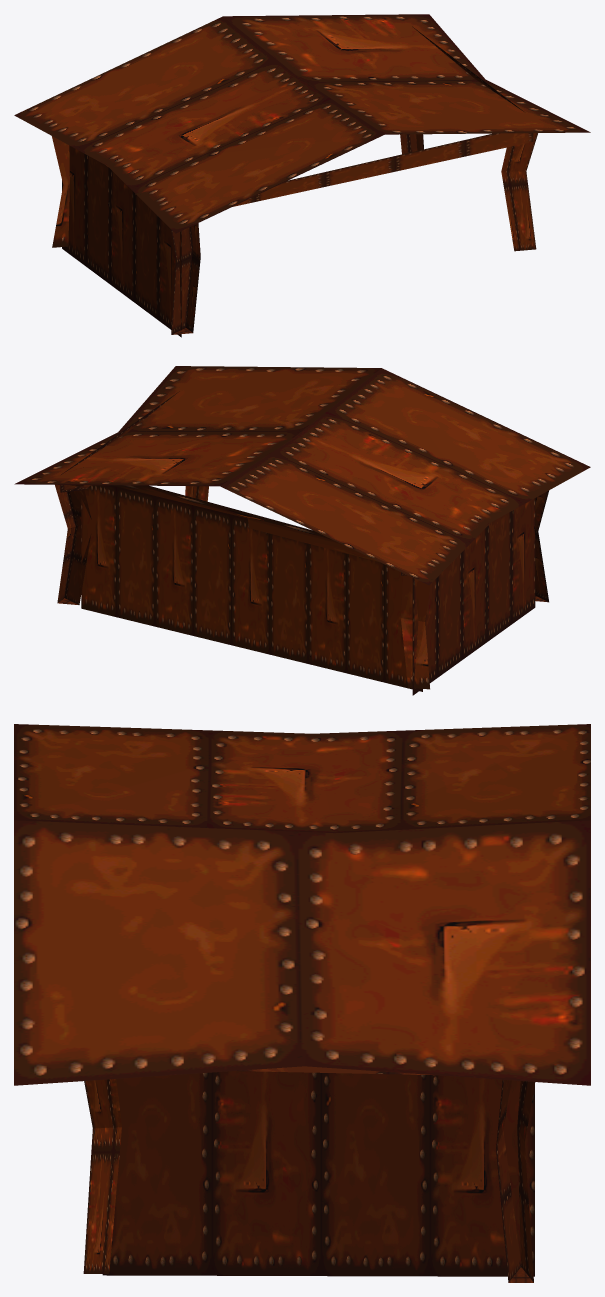
File: Autowerkstadt_1800.glb
3 renders of one model, top to bottom at view 1: azimuth 30°, elevation 25°; view 2: azimuth 150°, elevation 25°; view 3: azimuth 270°, elevation 25°, orthographic. The views are drawn at different scales.
Visible parts, largest first — view 1: pPlaneShape6, pPlaneShape5, pPlaneShape20, pCylinderShape23, pCylinderShape20, pCylinderShape19, pCylinderShape18, pCylinderShape17; view 2: pPlaneShape18, pPlaneShape6, pPlaneShape5, pPlaneShape20, pCylinderShape17, pCylinderShape24, pCylinderShape18, pCylinderShape19, pCylinderShape21; view 3: pPlaneShape5, pPlaneShape19, pPlaneShape6, pCylinderShape20, pCylinderShape17, pCylinderShape21.
Boxes of the visible parts, x1=… form: pPlaneShape6: x1=14, y1=16, x2=384, y2=233; pPlaneShape5: x1=223, y1=14, x2=590, y2=134; pPlaneShape20: x1=62, y1=145, x2=181, y2=337; pCylinderShape23: x1=233, y1=133, x2=533, y2=206; pCylinderShape20: x1=501, y1=133, x2=537, y2=251; pCylinderShape19: x1=171, y1=223, x2=200, y2=334; pCylinderShape18: x1=52, y1=136, x2=69, y2=247; pCylinderShape17: x1=400, y1=134, x2=423, y2=154; pPlaneShape18: x1=81, y1=485, x2=422, y2=691; pPlaneShape6: x1=220, y1=368, x2=590, y2=585; pPlaneShape5: x1=14, y1=366, x2=381, y2=486; pPlaneShape20: x1=412, y1=498, x2=535, y2=695; pCylinderShape17: x1=55, y1=484, x2=91, y2=604; pCylinderShape24: x1=83, y1=467, x2=379, y2=562; pCylinderShape18: x1=401, y1=573, x2=430, y2=689; pCylinderShape19: x1=535, y1=490, x2=548, y2=602; pCylinderShape21: x1=60, y1=391, x2=179, y2=492; pPlaneShape5: x1=14, y1=820, x2=590, y2=1085; pPlaneShape19: x1=102, y1=1071, x2=534, y2=1276; pPlaneShape6: x1=14, y1=724, x2=590, y2=833; pCylinderShape20: x1=83, y1=1079, x2=121, y2=1273; pCylinderShape17: x1=496, y1=1080, x2=535, y2=1282; pCylinderShape21: x1=237, y1=1066, x2=434, y2=1075.
Size of the model in its own units: 1.12 by 0.4577 by 0.7545.
13 materials, 13 textured.
